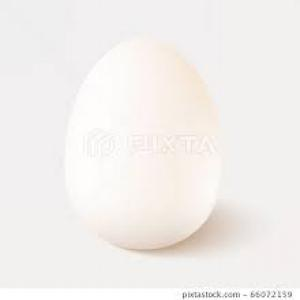Egg: (60, 34, 226, 254)
